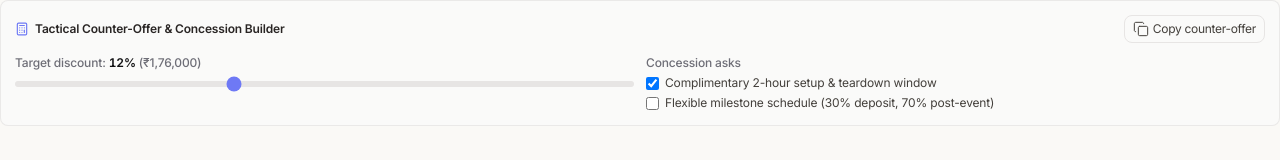
Test: Vendor Negotiation Studio & Counter-Offer Tactic Builder › VendorCounterOfferTactic recalculates counter-offer and copies generated script
The image size is (1280, 160).
Expected: the text "Tactical Counter-Offer & Concession Builder" is shown, x1=35 y1=21 x2=285 y2=37
Note: Toggle a concession
Click the text "Flexible milestone schedule (30% deposit, 70% post-event)": coordinates (830, 103) x1=665 y1=95 x2=994 y2=111
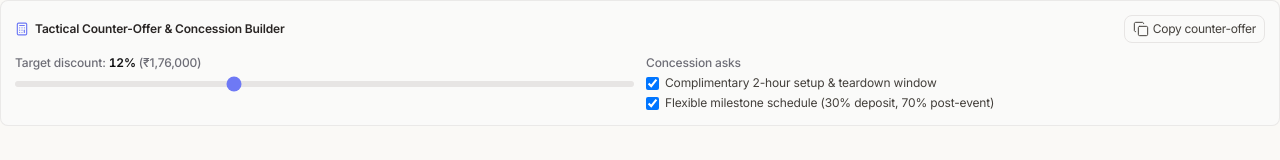
Note: Copy script
Click the button "Copy counter-offer": coordinates (1194, 29) x1=1124 y1=15 x2=1265 y2=43
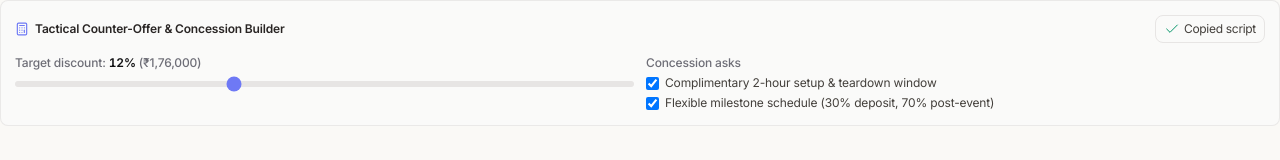
Expected: the button "Copied script" is shown, x1=1155 y1=15 x2=1265 y2=43
